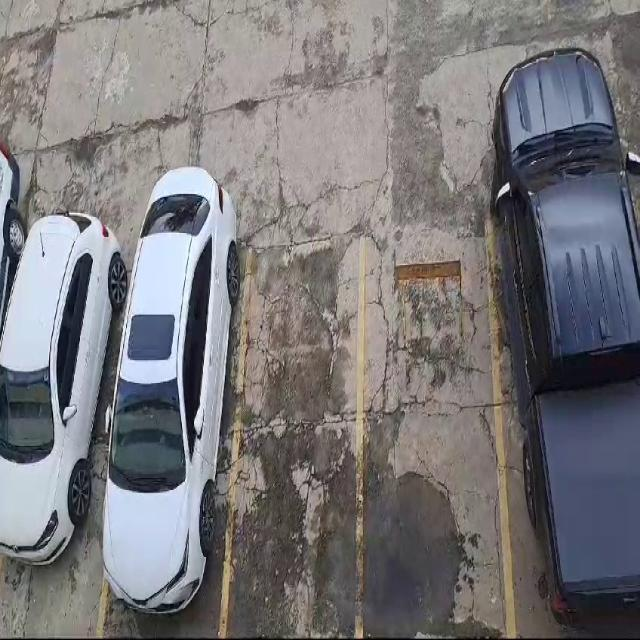empty: (361, 229, 512, 634), (223, 243, 362, 637)
notEmpty: (487, 209, 639, 639), (99, 252, 247, 636), (2, 247, 144, 633)
